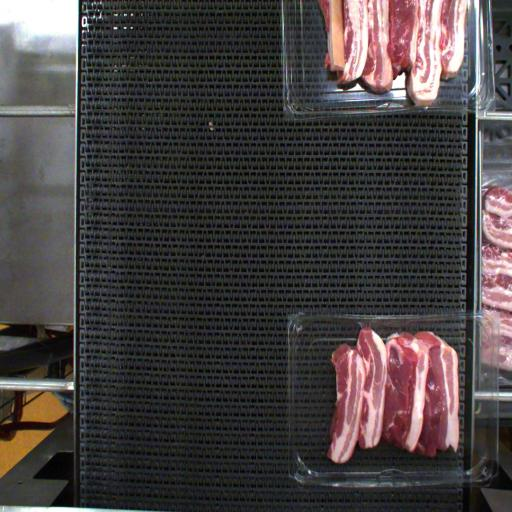packaging-error: (358, 319, 374, 334)
